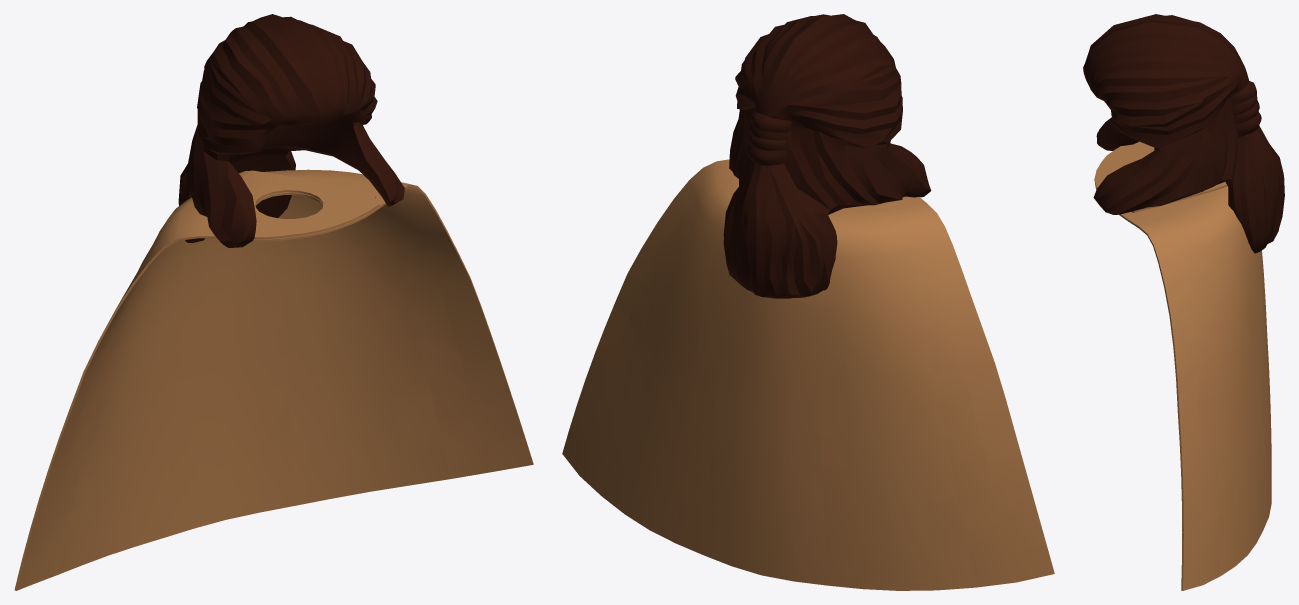
File: JAMES.fbx
3 views of the same model, side by side, from view 1: azimuth 30°, elevation 25°; view 2: azimuth 150°, elevation 25°; view 3: azimuth 270°, elevation 25° (orthographic). The views are drawn at different scales.
Visible parts, largest first — view 1: JAMES-CLOAK, JAMES_CLOAK; view 2: JAMES-CLOAK, JAMES_CLOAK; view 3: JAMES-CLOAK, JAMES_CLOAK.
Boxes of the visible parts, left/top/right/bottom form: JAMES-CLOAK: left=14, top=169, right=533, bottom=590; JAMES_CLOAK: left=178, top=14, right=404, bottom=247; JAMES-CLOAK: left=562, top=159, right=1054, bottom=590; JAMES_CLOAK: left=723, top=14, right=931, bottom=298; JAMES-CLOAK: left=1094, top=141, right=1271, bottom=590; JAMES_CLOAK: left=1083, top=14, right=1284, bottom=253.
Size of the model in its own units: 4178 by 4144 by 1570.
